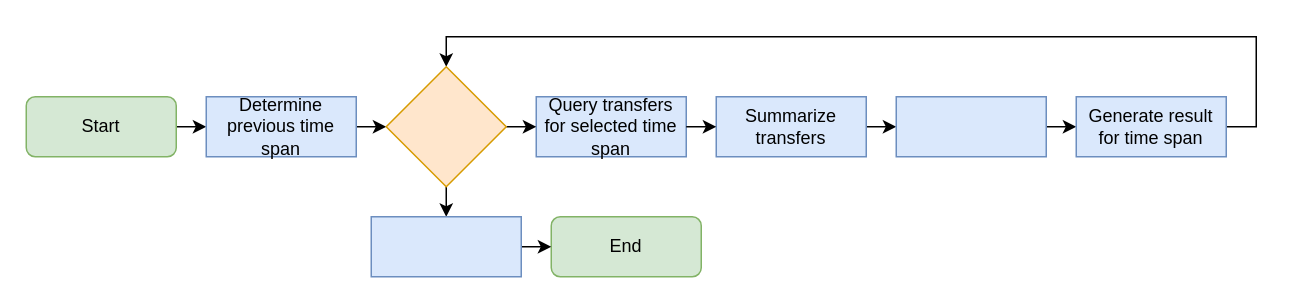
Some shapes in this 1295 by 303 pixel diagram are drawn without their labels. Each missing label, with the box of its shape:
For each time span: (385, 65, 506, 187)
Generate final result: (370, 215, 521, 277)
Transform summary: (895, 95, 1046, 157)
